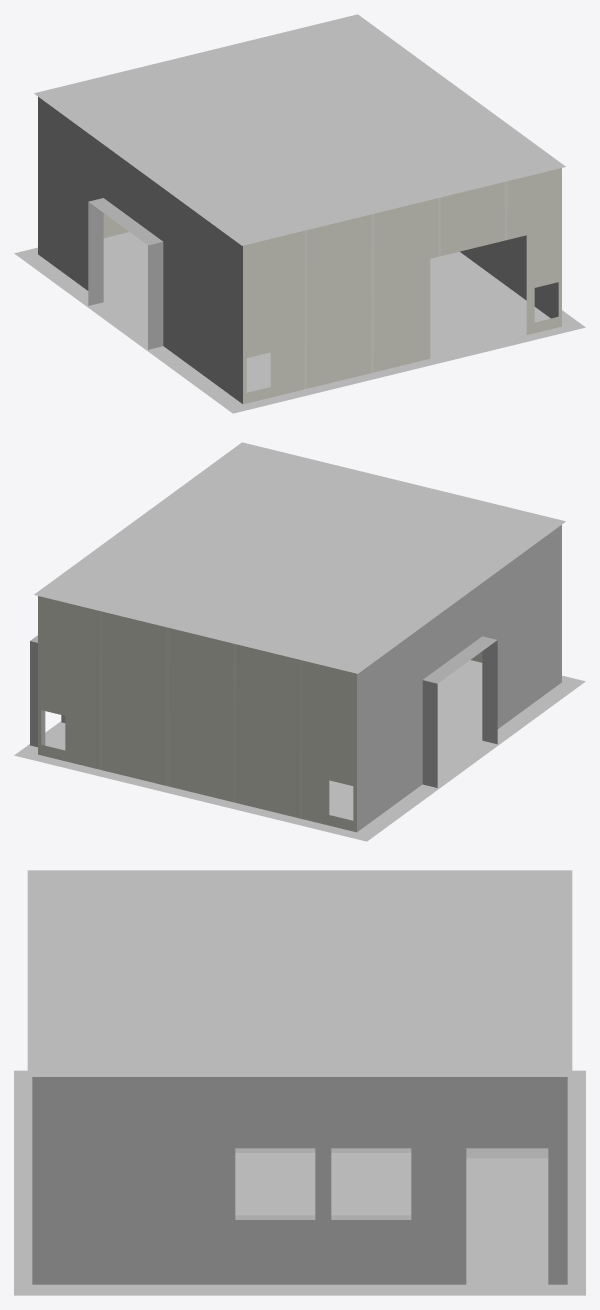
Rendered from RoomShell.fbx.
The picture shows the model from 3 angles, top to bottom: view 1: azimuth 30°, elevation 25°; view 2: azimuth 150°, elevation 25°; view 3: azimuth 270°, elevation 25°; orthographic projection. The views are drawn at different scales.
Parts seen in each view (by area): view 1: wall, Roof, Floor; view 2: wall, Roof, Floor; view 3: Roof, wall, Floor.
Part boxes in pixels (x1,y1,x2,y2): wall: (38,97,561,404); Roof: (34,14,565,245); Floor: (14,232,585,413); wall: (30,525,561,832); Roof: (34,442,565,673); Floor: (14,660,585,841); Roof: (27,870,572,1076); wall: (32,1077,567,1284); Floor: (14,1070,585,1295).
Size of the model in its own units: 760 by 330 by 816.
